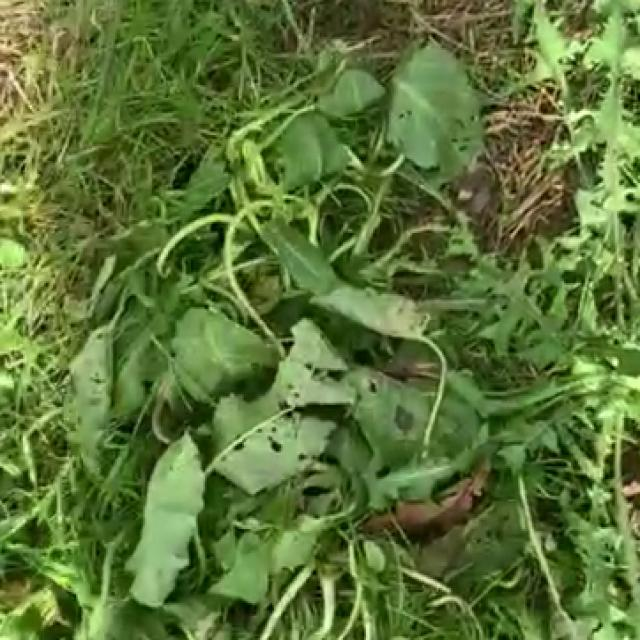organic waste: (94, 68, 502, 584)
